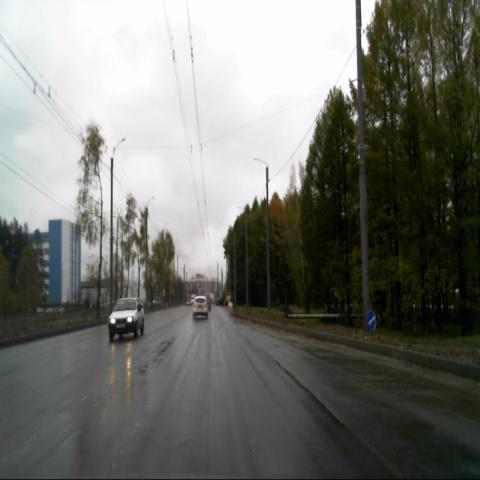4_2_2: (367, 310, 377, 333)
